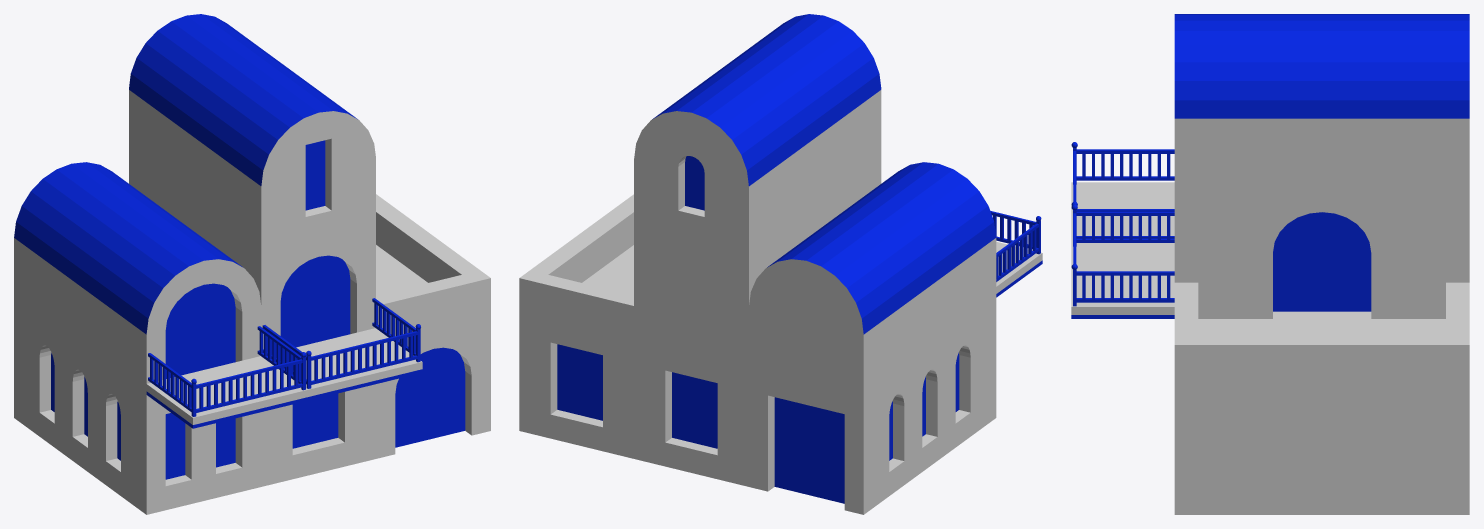
File: SM_Module3_001.fbx
3 views of the same model, side by side, from view 1: azimuth 30°, elevation 25°; view 2: azimuth 150°, elevation 25°; view 3: azimuth 270°, elevation 25° (orthographic). The views are drawn at different scales.
Parts seen in each view (by area): view 1: 1WF1WB.005, 1DF.001, 2WF3WS1DB, 1DF1DS, Terasse.004, 1WF1WB.007, 1DF1WB.001, Door2.034, Door2.033, Door2.032, Balcon.001, Balcon (+10 smaller); view 2: 1DF.001, 1WF1WB.005, 2WF3WS1DB, 1DF1DS, 1WF1WB.007, 1DF1WB.001, Terasse.004, Door.049, WIndow2.098, WIndow2.097, Window3.079, Balcon.001 (+2 smaller); view 3: 1WF1WB.005, 1DF1WB.001, 1DF1DS, Terasse.004, Door2.035, Balcon, Balcon.001, ARRAY.078, ARRAY.026, ARRAY.076, 1WF1WB.007, ARRAY.025 (+4 smaller).
Part boxes in pixels (x1,y1,x2,y2): 1WF1WB.005: (129, 14, 375, 246); 1DF.001: (14, 162, 261, 394); 2WF3WS1DB: (14, 298, 261, 514); 1DF1DS: (129, 150, 375, 349); Terasse.004: (376, 194, 490, 333); 1WF1WB.007: (261, 384, 375, 486); 1DF1WB.001: (376, 311, 490, 458); Door2.034: (395, 347, 465, 447); Door2.033: (165, 283, 235, 378); Door2.032: (280, 255, 350, 347); Balcon.001: (146, 356, 307, 428); Balcon: (296, 328, 422, 400); 1DF.001: (749, 162, 996, 394); 1WF1WB.005: (634, 14, 881, 246); 2WF3WS1DB: (749, 298, 996, 514); 1DF1DS: (634, 150, 881, 366); 1WF1WB.007: (634, 339, 748, 486); 1DF1WB.001: (519, 311, 633, 458); Terasse.004: (519, 194, 633, 338); Door.049: (774, 397, 844, 503); WIndow2.098: (672, 372, 717, 448); WIndow2.097: (557, 344, 602, 420); Window3.079: (685, 156, 704, 210); Balcon.001: (996, 241, 1042, 297); 1WF1WB.005: (1174, 14, 1469, 185); 1DF1WB.001: (1174, 381, 1469, 514); 1DF1DS: (1174, 185, 1469, 318); Terasse.004: (1174, 282, 1469, 381); Door2.035: (1273, 212, 1371, 311); Balcon: (1071, 244, 1174, 318); Balcon.001: (1071, 182, 1174, 244); ARRAY.078: (1082, 275, 1170, 299); ARRAY.026: (1082, 154, 1170, 177); ARRAY.076: (1082, 216, 1170, 239); 1WF1WB.007: (1273, 311, 1371, 318); ARRAY.025: (1076, 149, 1174, 153).
Size of the model in its own units: 750 by 750 by 675.
